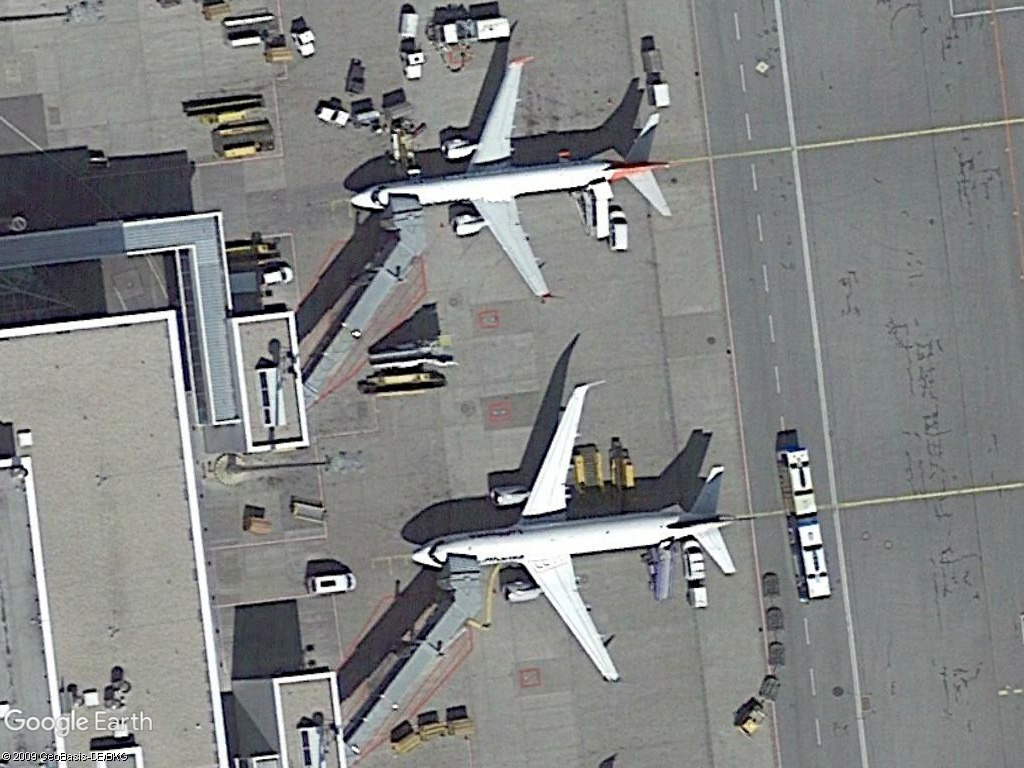airliner: (397, 377, 746, 692), (338, 50, 679, 317)
bus: (785, 516, 834, 603), (774, 443, 822, 519)
stairtruck: (366, 335, 454, 374)
van: (305, 572, 359, 600)
